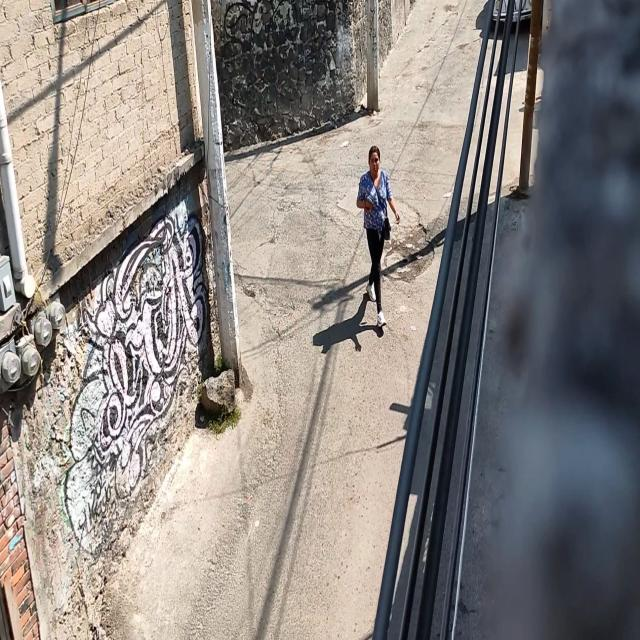adult: (357, 143, 403, 334)
